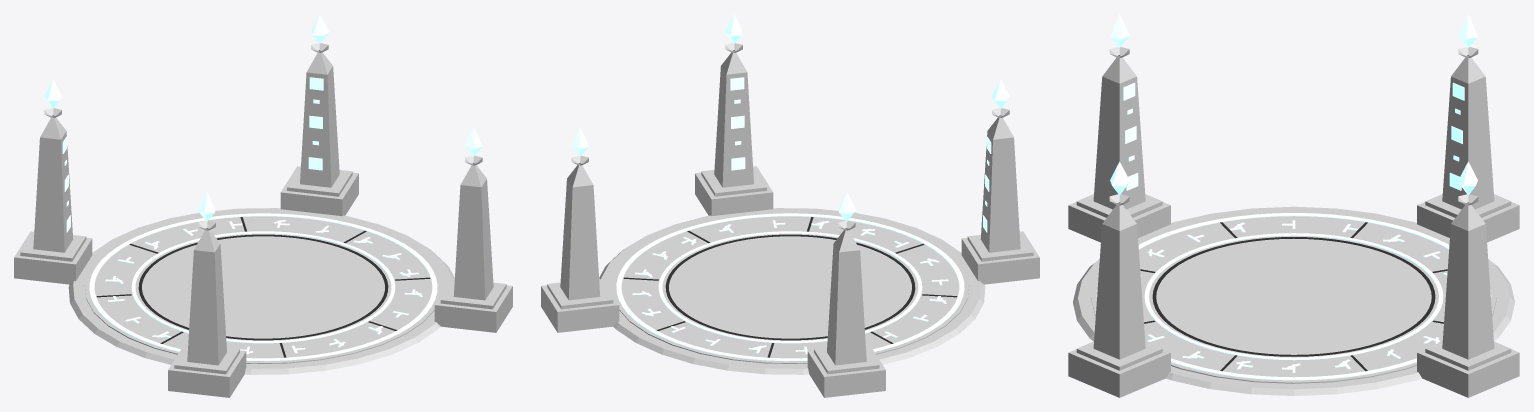
Rendered from teleporter.glb.
The picture shows the model from 3 angles, left to right: view 1: azimuth 30°, elevation 25°; view 2: azimuth 150°, elevation 25°; view 3: azimuth 270°, elevation 25°; orthographic projection. The views are drawn at different scales.
Visible parts, largest first — view 1: teleporter, teleporter_crystals; view 2: teleporter, teleporter_crystals; view 3: teleporter, teleporter_crystals.
Boxes of the visible parts, left/top/right/bottom form: teleporter: left=14, top=43, right=512, bottom=397; teleporter_crystals: left=44, top=14, right=482, bottom=221; teleporter: left=541, top=43, right=1039, bottom=397; teleporter_crystals: left=571, top=14, right=1009, bottom=221; teleporter: left=1068, top=47, right=1519, bottom=397; teleporter_crystals: left=1110, top=14, right=1477, bottom=195.
Size of the model in its own units: 6.22 by 3.27 by 6.22.
